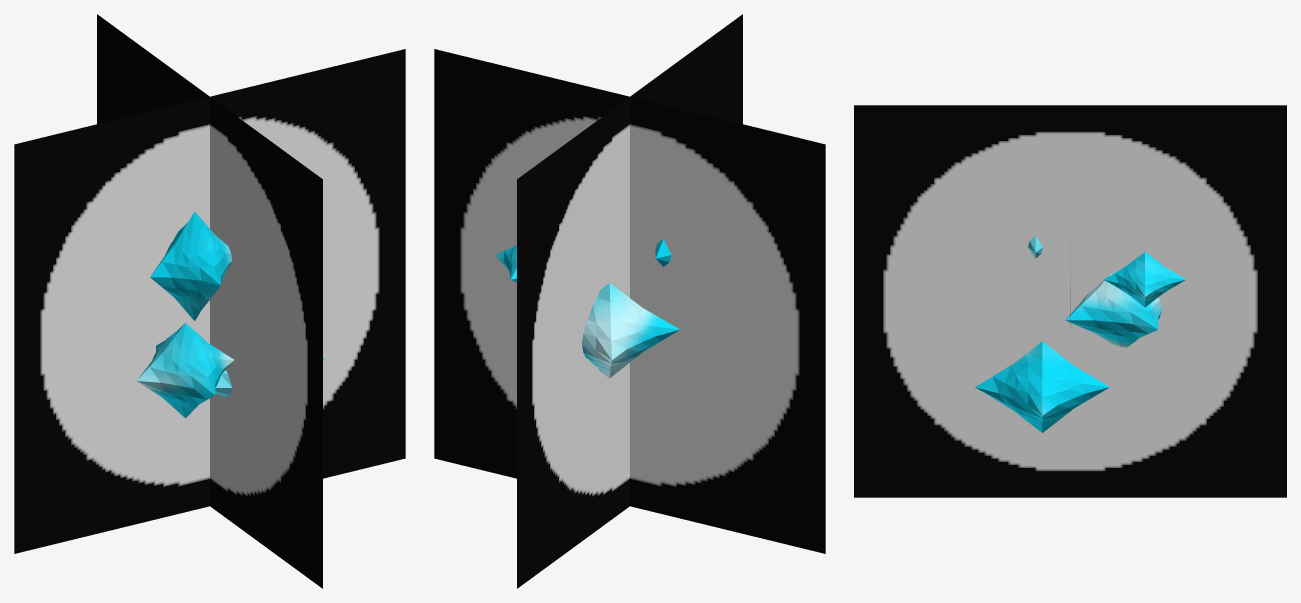
The model's file is teleport.fbx.
The picture shows the model from 3 angles, left to right: view 1: azimuth 30°, elevation 25°; view 2: azimuth 150°, elevation 25°; view 3: azimuth 270°, elevation 25°; orthographic projection. The views are drawn at different scales.
Visible parts, largest first — view 1: Plane; view 2: Plane; view 3: Plane.
Part boxes in pixels (x1,y1,x2,y2): Plane: (14,14,405,588); Plane: (434,14,825,588); Plane: (854,105,1286,497).
Size of the model in its own units: 1.2 by 1.2 by 1.2.
